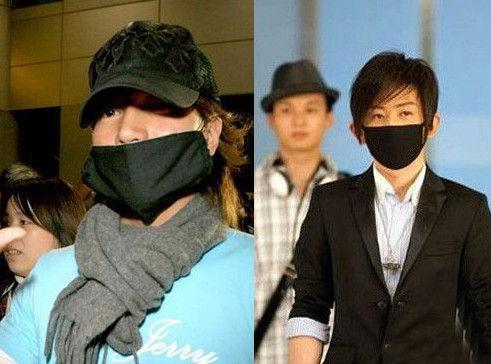yes_mask: (78, 16, 224, 212), (346, 48, 442, 169)
